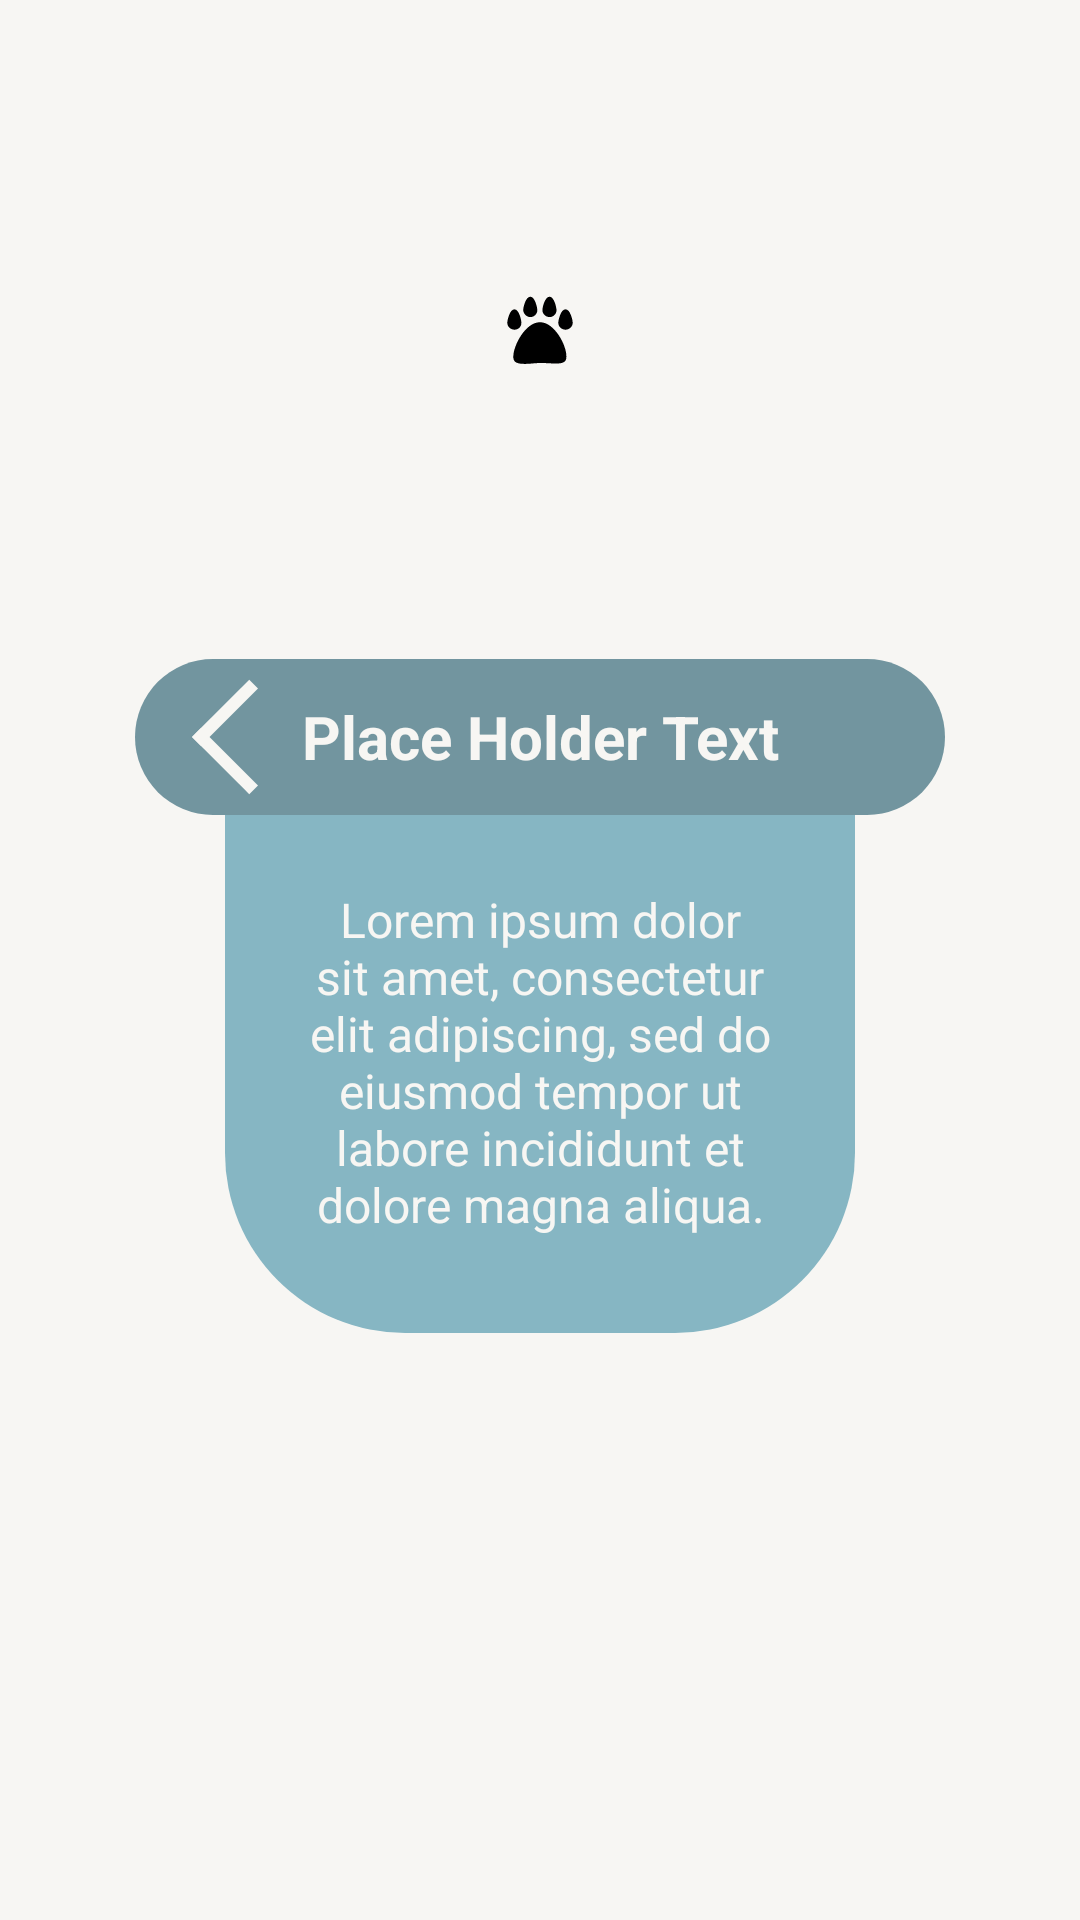

Screen size 1080 x 1920. Icon name, then its center in pixels as [x,y]:
paw: [540,330]
previous: [225,737]
